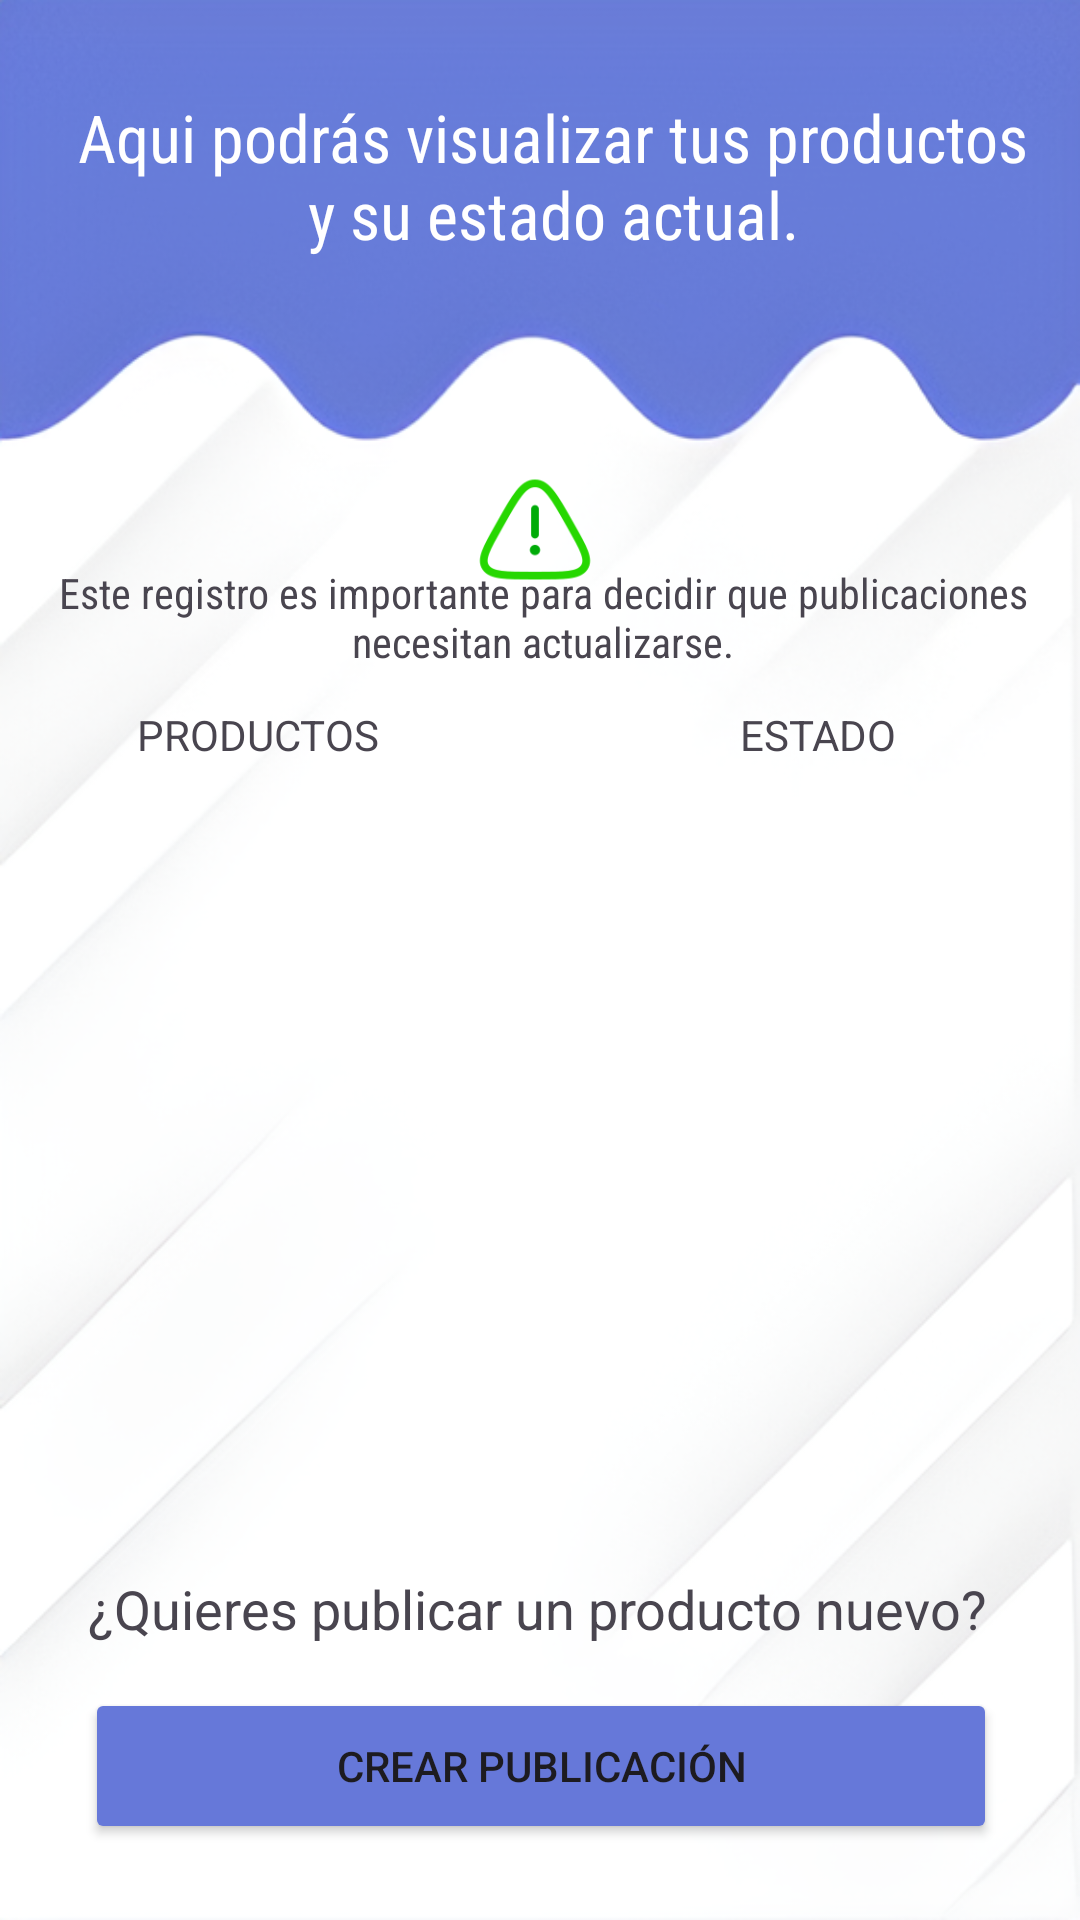

Named icons in this screenshot (1080w x 1920h) and their centers, (x=x, y=y):
alert: (x=535, y=529)
